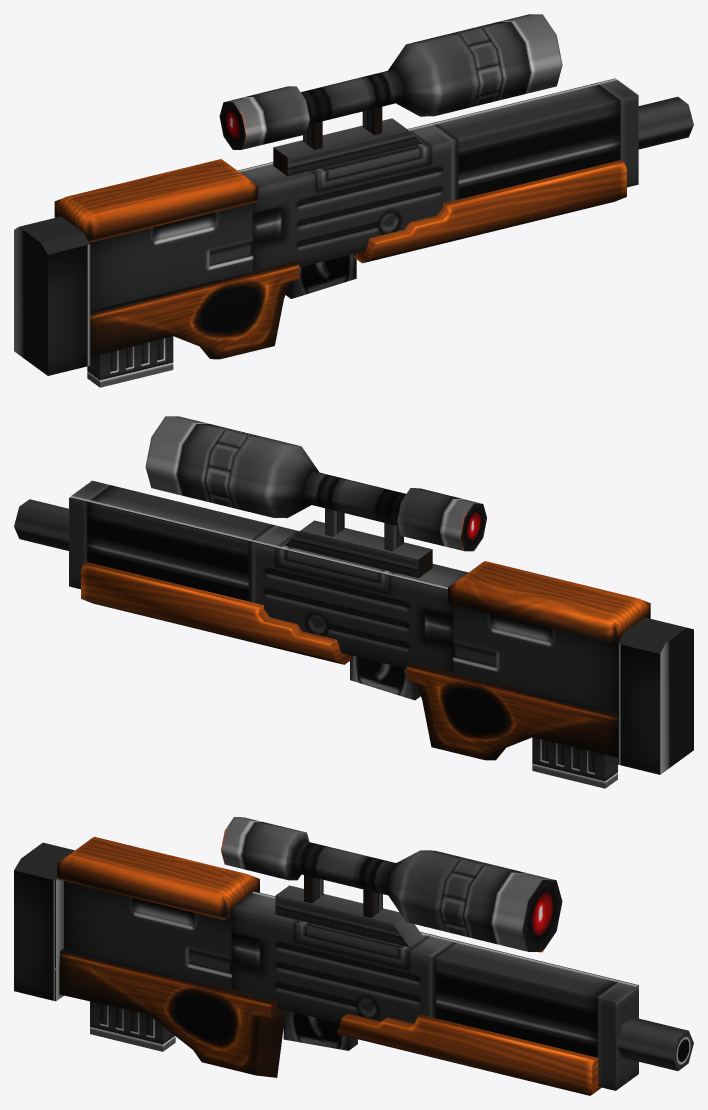
File: sniper wa2000 lv1.FBX
3 renders of one model, top to bottom at view 1: azimuth 30°, elevation 25°; view 2: azimuth 150°, elevation 25°; view 3: azimuth 330°, elevation 25°, orthographic.
Parts seen in each view (by area): view 1: Object064; view 2: Object064; view 3: Object064.
Boxes of the visible parts, x1,y1,x2,y2 form: Object064: [14, 14, 693, 387]; Object064: [14, 416, 693, 788]; Object064: [14, 817, 693, 1095].
Size of the model in its own units: 92.61 by 35.73 by 9.81.
